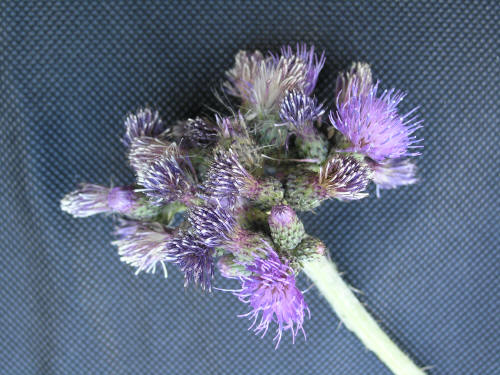thistle: (328, 86, 422, 162), (246, 249, 309, 332), (287, 157, 373, 212), (281, 92, 326, 167), (260, 201, 309, 246)
